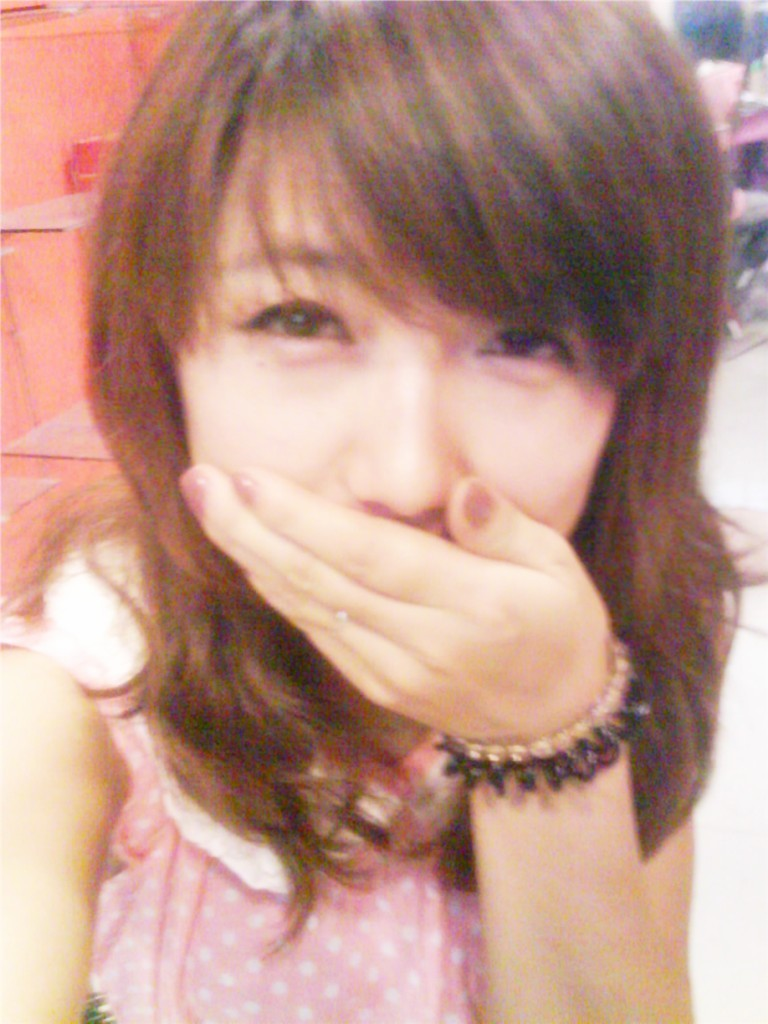face: (196, 75, 618, 741)
